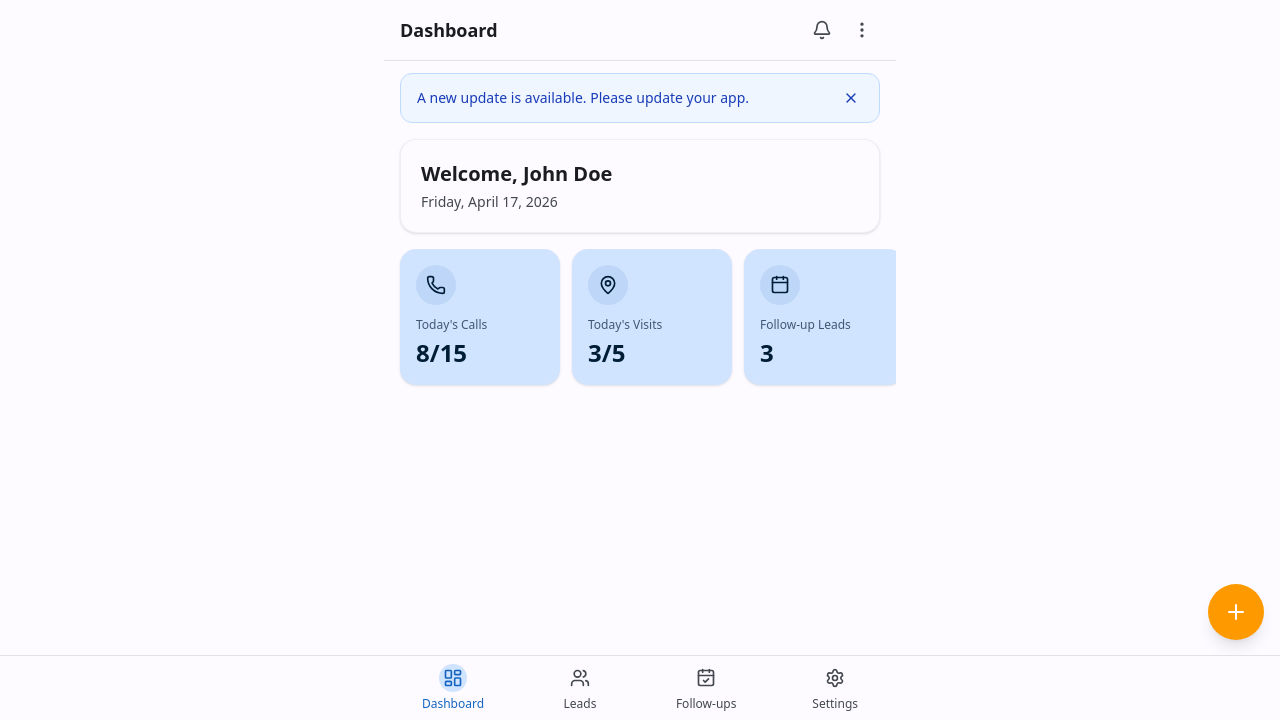
Test: DashboardPage › opens speed-dial FAB when Plus button is clicked
Click the button named "Quick actions". click: (1236, 612)
box: [1208, 584, 1264, 640]
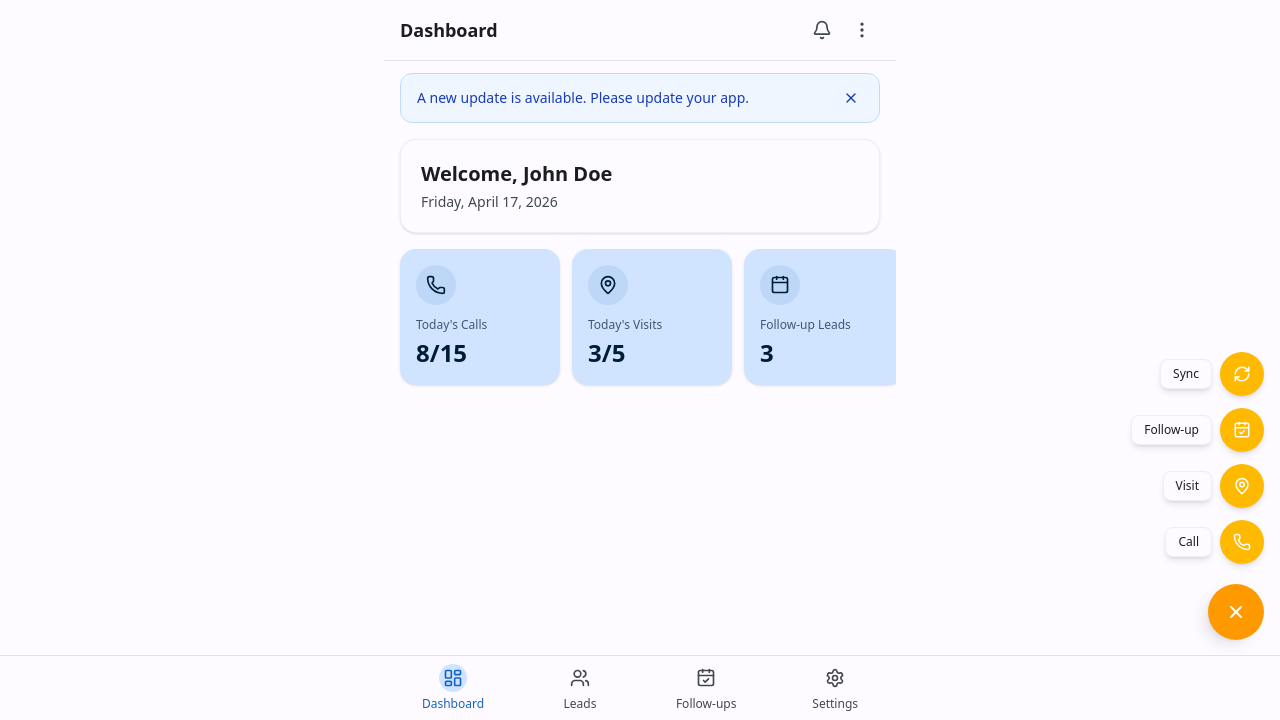
Now the text "Sync" is shown, box [1160, 359, 1212, 389]
Now the text "Call" is shown, box [1166, 527, 1212, 557]
Now the text "Visit" is shown, box [1162, 471, 1212, 501]
